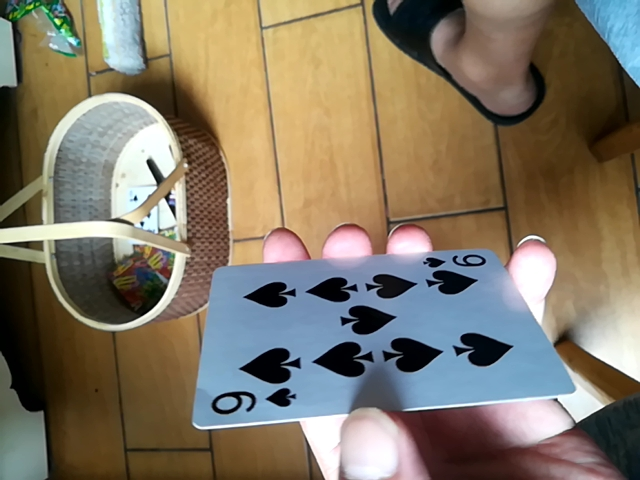ht 9: (192, 238, 581, 428)
